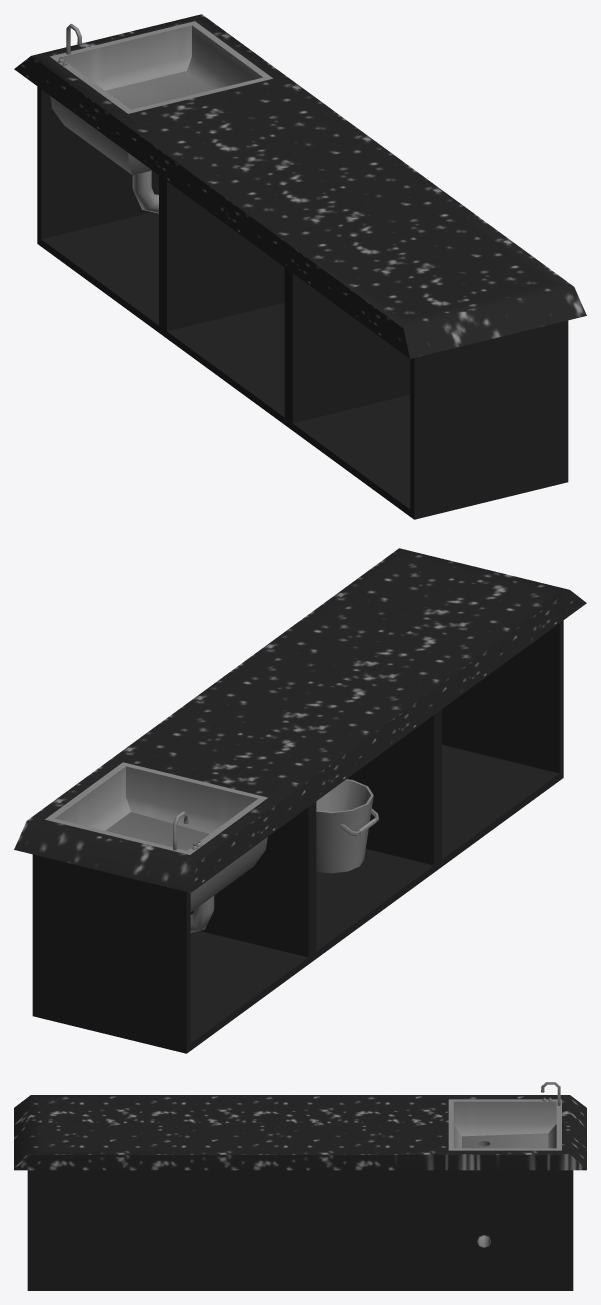
Rendered from sink_DONE.fbx.
The picture shows the model from 3 angles, top to bottom: view 1: azimuth 30°, elevation 25°; view 2: azimuth 150°, elevation 25°; view 3: azimuth 270°, elevation 25°; orthographic projection. The views are drawn at different scales.
Parts seen in each view (by area): view 1: Plane.008; view 2: Plane.008; view 3: Plane.008.
Part boxes in pixels (left/top/right/bottom): Plane.008: left=14, top=14, right=586, bottom=519; Plane.008: left=14, top=548, right=586, bottom=1053; Plane.008: left=14, top=1082, right=586, bottom=1290.
Size of the model in its own units: 103 by 124 by 399.
2 materials, 2 textured.
